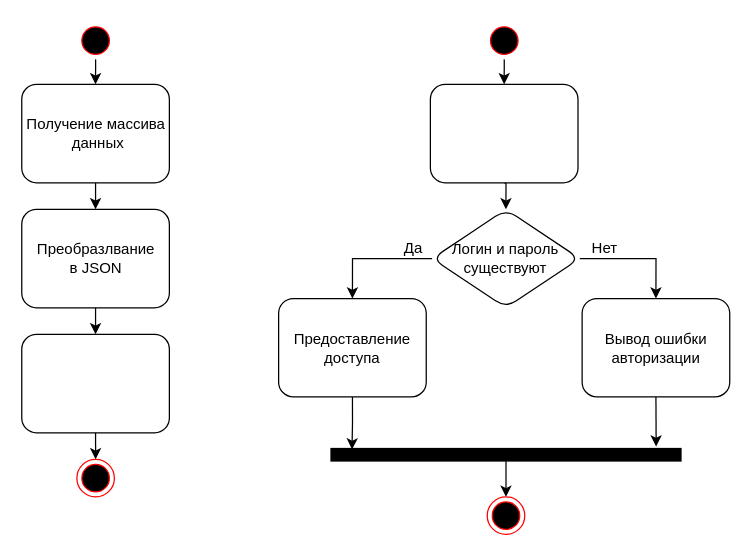
Image size: 753x556. Some labels were removed from this diagram. Each missing label, with the box of its shape:
Ввод логина и пароля: (429, 83, 578, 183)
Скачивание файла: (20, 333, 169, 433)
